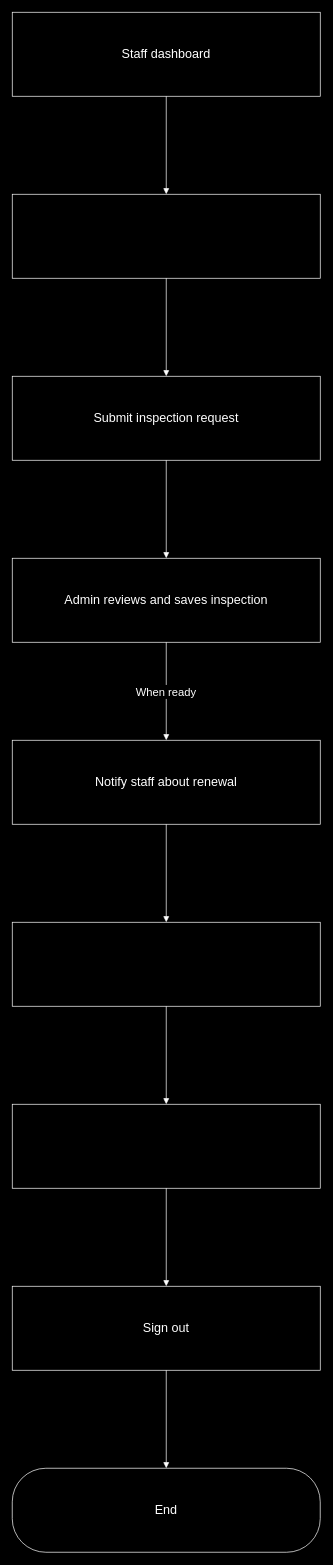
The diagram is 333 pixels wide and 1565 high, and some of its shapes have lost their labels. Each missing label, with the box of its shape:
Manage property acknowledgement receipts: (12, 922, 320, 1006)
Register personnel and firearm details: (12, 194, 320, 278)
View / export reports and inspection PDF: (12, 1104, 320, 1188)
